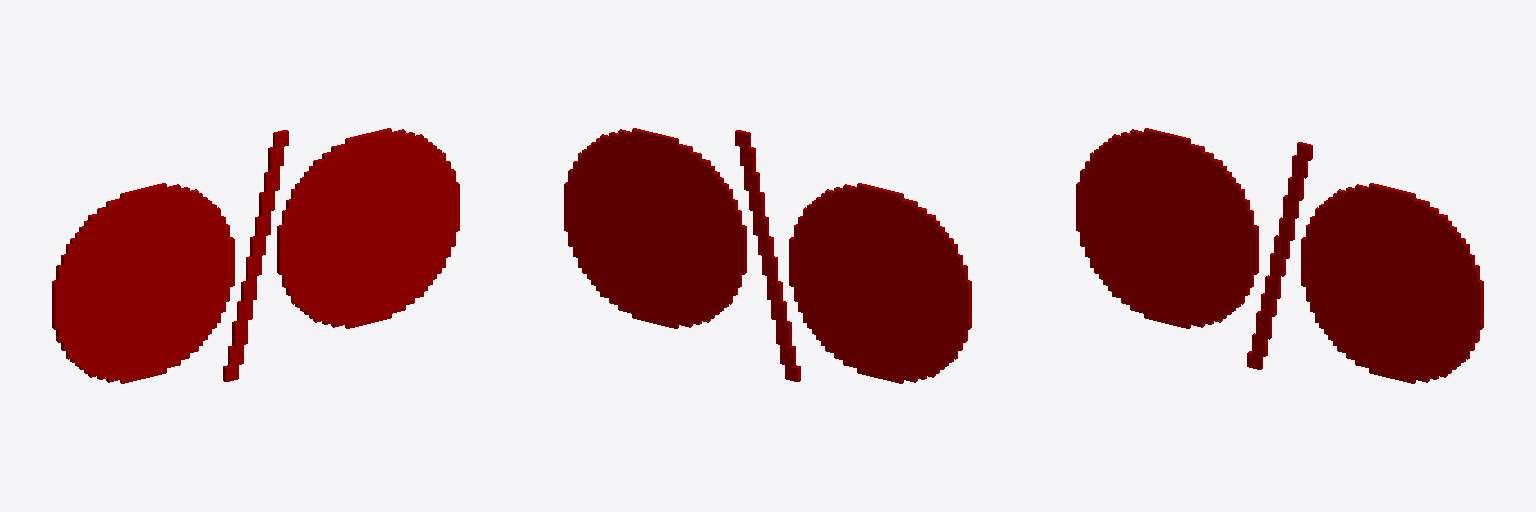
The picture shows the model from 3 angles: view 1: azimuth 30°, elevation 25°; view 2: azimuth 150°, elevation 25°; view 3: azimuth 330°, elevation 25°; orthographic projection.
Visible parts, largest first — view 1: object 1; view 2: object 1; view 3: object 1.
Part boxes in pixels (x1,y1,x2,y2): object 1: (52, 128, 459, 383); object 1: (564, 128, 971, 383); object 1: (1076, 128, 1483, 383).
Size of the model in its own units: 9 by 5 by 0.1.
Materials: 1 (1 with a texture image).